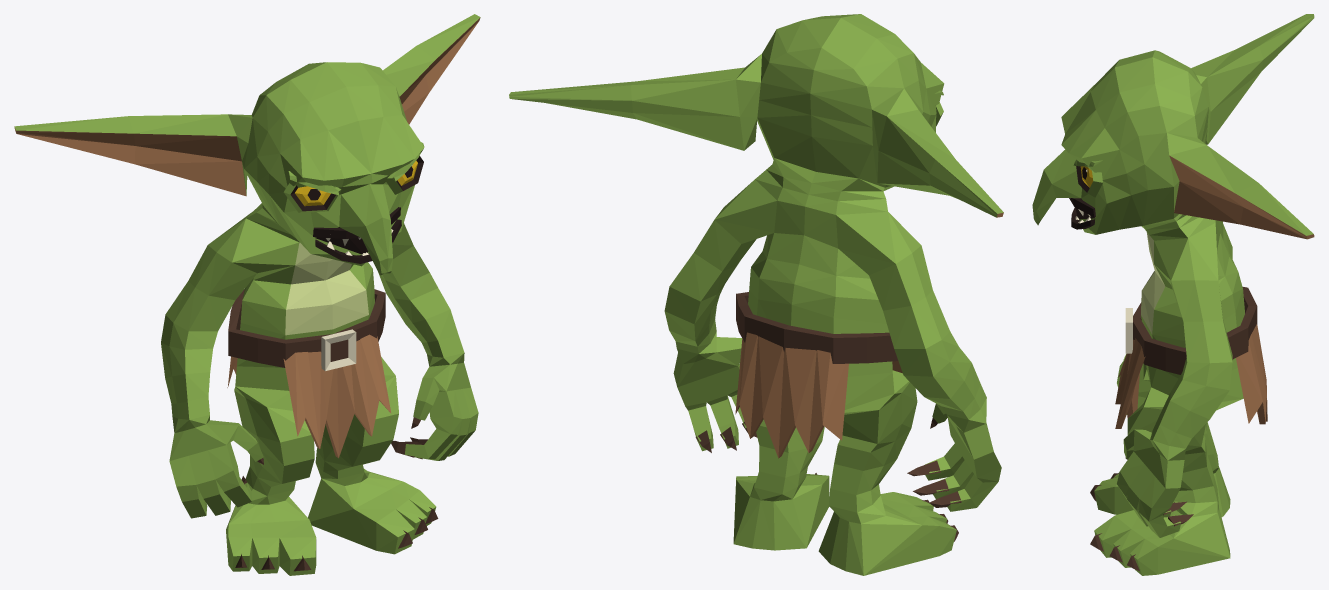
The picture shows the model from 3 angles, left to right: view 1: azimuth 30°, elevation 25°; view 2: azimuth 150°, elevation 25°; view 3: azimuth 270°, elevation 25°; orthographic projection. The views are drawn at different scales.
Visible parts, largest first — view 1: body, piece_cloth_front, piece_belt, piece_eye_R, piece_buckle, piece_eye_L, piece_claws_1, piece_teeth_lo, piece_teeth_up; view 2: body, piece_cloth_back, piece_belt, piece_claws_0; view 3: body, piece_belt, piece_cloth_back, piece_cloth_front, piece_eye_L, piece_claws_1, piece_buckle.
Boxes of the visible parts, x1,y1,x2,y2 form: body: (14, 14, 480, 575); piece_cloth_front: (283, 334, 391, 458); piece_belt: (228, 289, 385, 367); piece_eye_R: (283, 171, 341, 212); piece_buckle: (321, 329, 356, 371); piece_eye_L: (385, 142, 424, 194); piece_claws_1: (235, 507, 438, 571); piece_teeth_lo: (315, 219, 401, 263); piece_teeth_up: (313, 207, 400, 245); body: (509, 14, 1003, 575); piece_cloth_back: (735, 332, 848, 458); piece_belt: (736, 292, 898, 363); piece_claws_0: (695, 418, 961, 507); body: (1032, 14, 1314, 575); piece_belt: (1133, 287, 1257, 374); piece_cloth_back: (1236, 324, 1267, 424); piece_cloth_front: (1115, 338, 1145, 428); piece_eye_L: (1073, 159, 1102, 197); piece_claws_1: (1090, 473, 1139, 570); piece_buckle: (1125, 308, 1132, 353).
Size of the model in its own units: 1.11 by 1.1 by 0.596.
